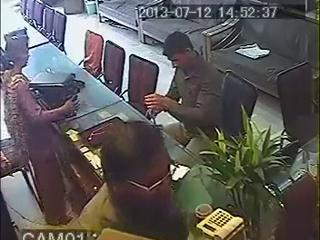Normal: (0, 29, 102, 226), (68, 121, 188, 240), (143, 31, 225, 146)
